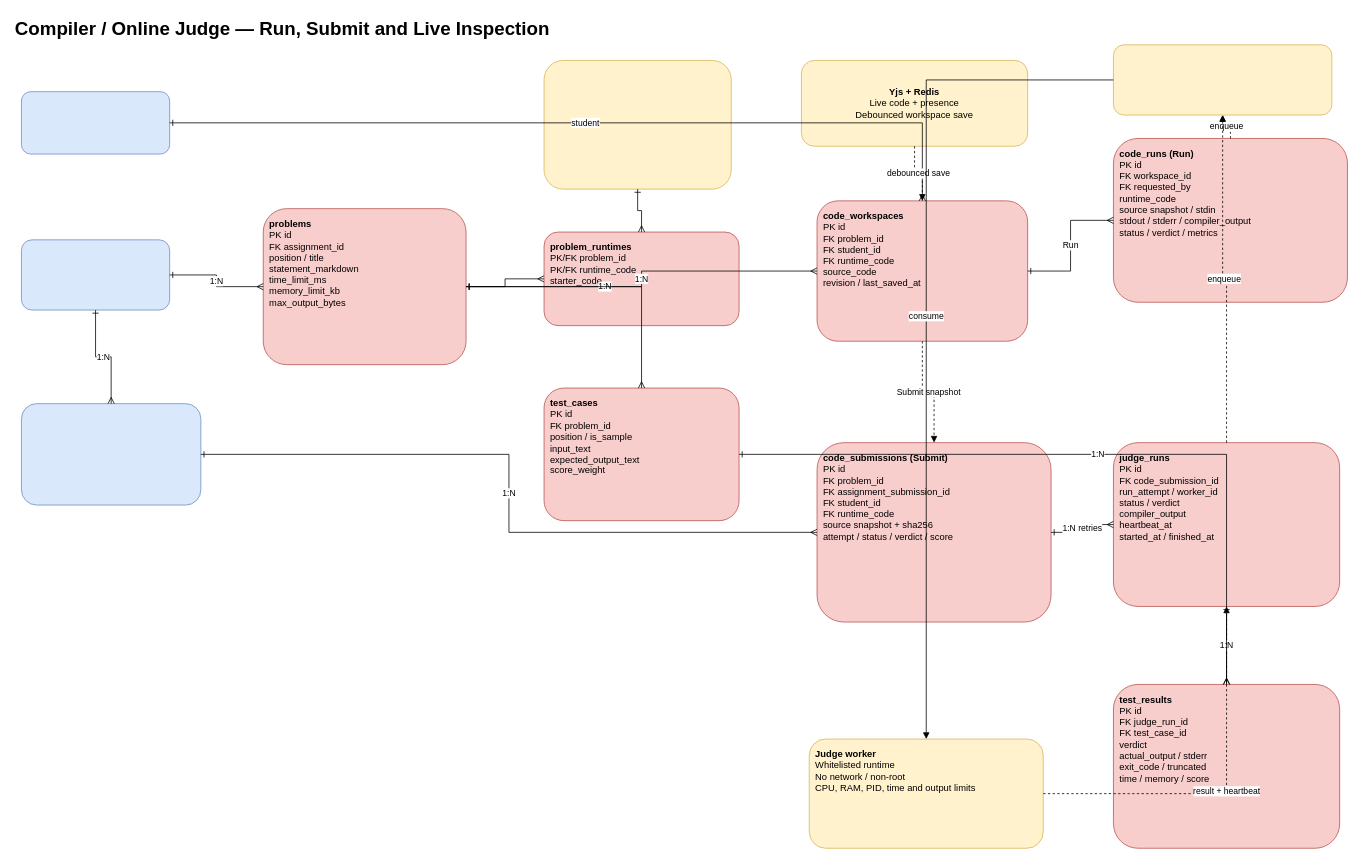
Image size: 1361x862. Some labels were removed from this diagram. The centre of each missing label's shape, as x and y in pixels:
"assignment_submissions PK id FK assignment_id FK student_id attempt_number" goes at [111,454].
"assignments PK id type = CODE" goes at [95,274].
"BullMQ Idempotent job by run ID" goes at [1222,79].
"code_runtimes PK code display_name version source_filename image_ref is_enabled" goes at [637,124].
"users student / mentor" goes at [95,122].
